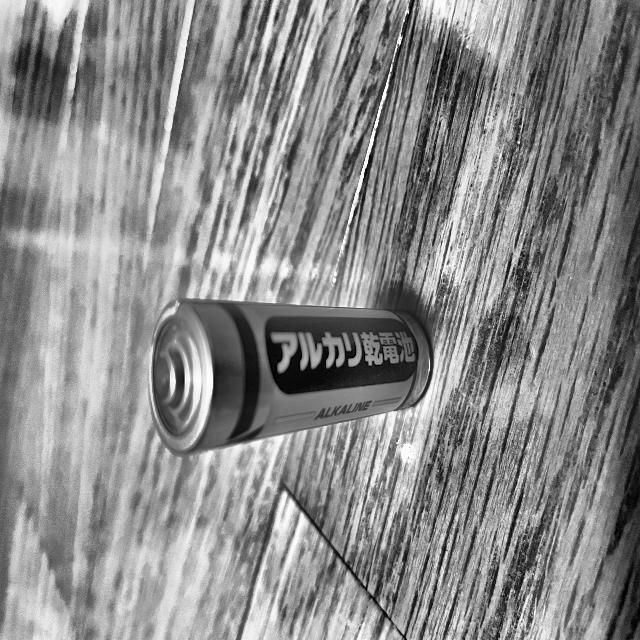drycell: (142, 287, 462, 458)
